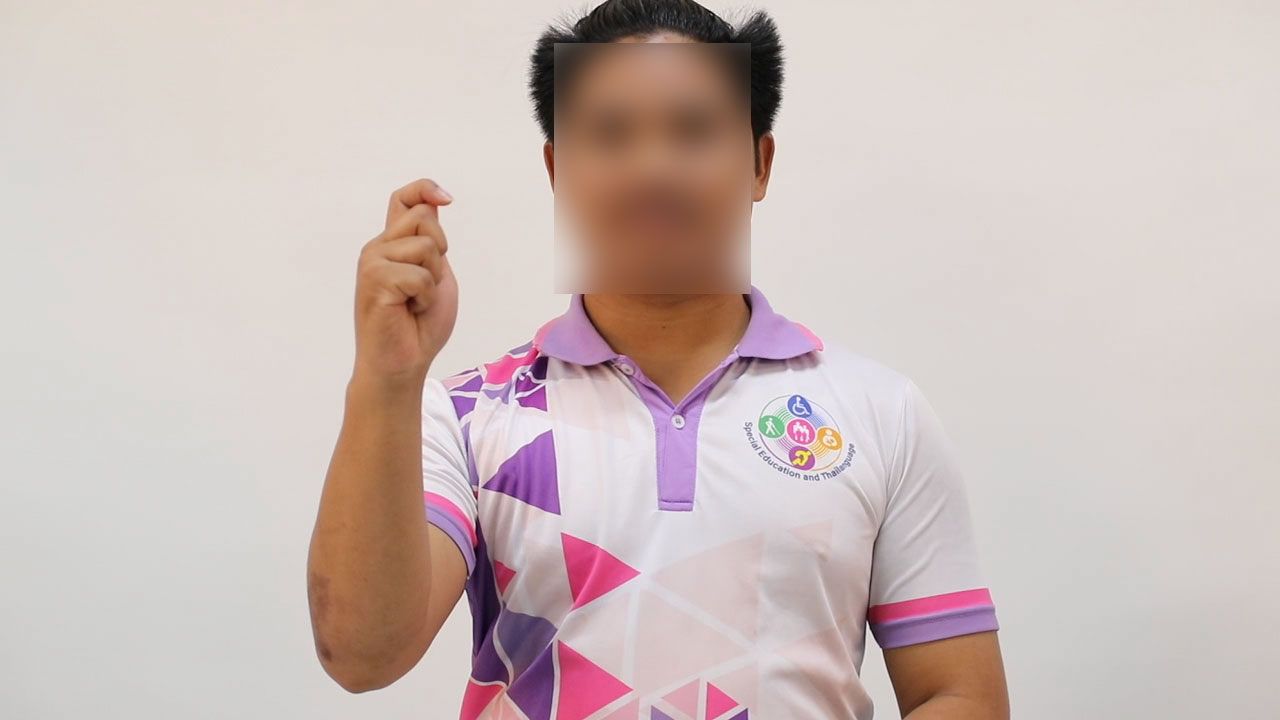or: (348, 174, 464, 396)
